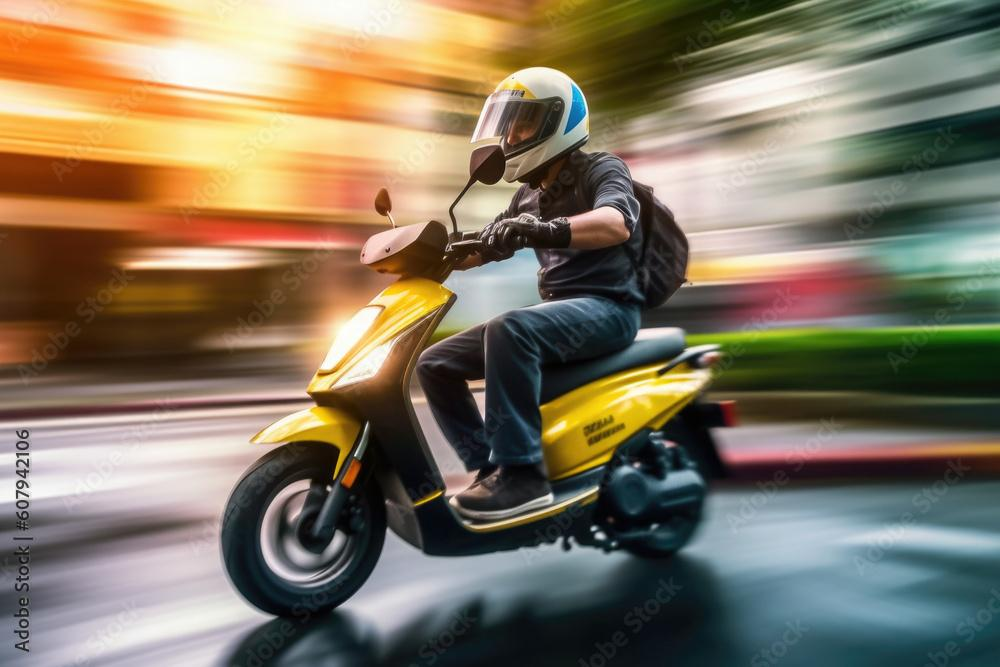helmet: (469, 66, 590, 184)
